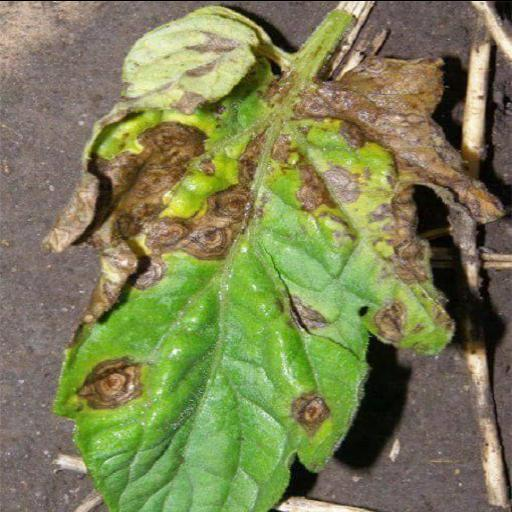disease_tomato: (43, 6, 494, 510)
